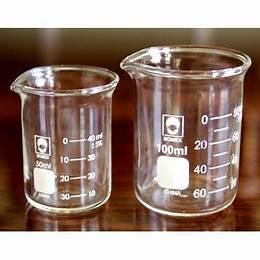Beaker: (119, 41, 251, 216), (11, 55, 120, 215)
